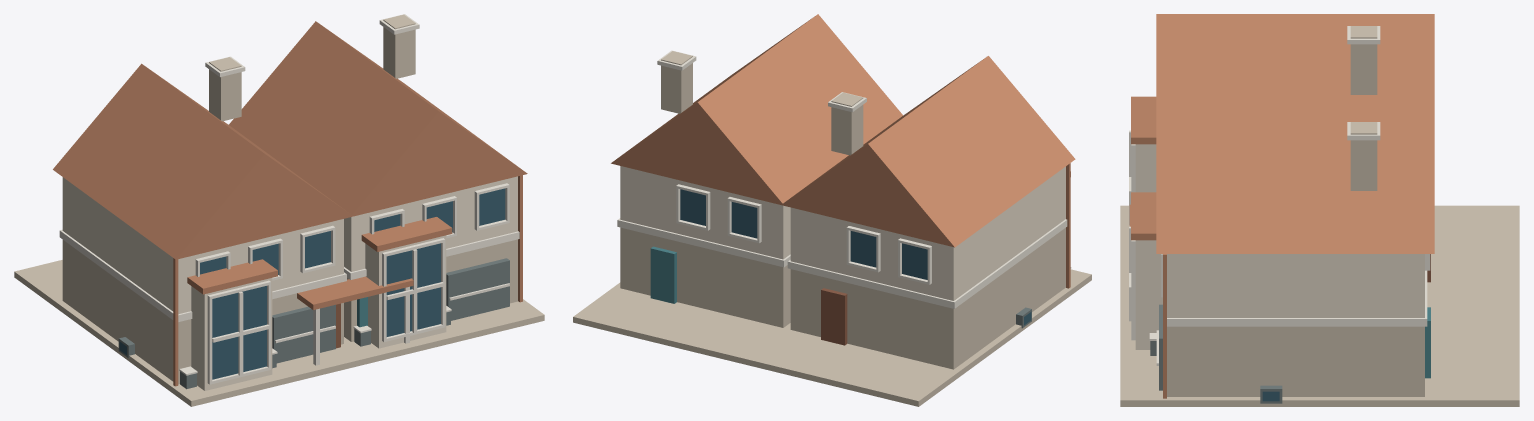
Rendered from townhouse_b.glb.
3 views of the same model, side by side, from view 1: azimuth 30°, elevation 25°; view 2: azimuth 150°, elevation 25°; view 3: azimuth 270°, elevation 25° (orthographic). The views are drawn at different scales.
Parts seen in each view (by area): view 1: Merged_TownRoof, Merged_TownStone, Merged_TownPlaster, Merged_TownTrim, Merged_WindowGlassDark, Merged_TownGarage; view 2: Merged_TownRoof, Merged_TownStone, Merged_TownPlaster, Merged_TownTrim, Merged_WindowGlassDark, Merged_TownDoor, Merged_TownDoorAccent; view 3: Merged_TownRoof, Merged_TownStone, Merged_TownPlaster, Merged_TownTrim, Merged_TownGarage, Merged_TownDoorAccent.
Part boxes in pixels (left/top/right/bottom): Merged_TownRoof: left=53, top=21, right=527, bottom=386; Merged_TownStone: left=14, top=14, right=544, bottom=406; Merged_TownPlaster: left=62, top=176, right=517, bottom=390; Merged_TownTrim: left=59, top=14, right=519, bottom=384; Merged_WindowGlassDark: left=119, top=188, right=505, bottom=379; Merged_TownGarage: left=118, top=258, right=509, bottom=389; Merged_TownRoof: left=611, top=14, right=1075, bottom=288; Merged_TownStone: left=573, top=51, right=1091, bottom=406; Merged_TownPlaster: left=620, top=166, right=1065, bottom=300; Merged_TownTrim: left=617, top=50, right=1071, bottom=308; Merged_WindowGlassDark: left=680, top=189, right=1031, bottom=325; Merged_TownDoor: left=821, top=288, right=847, bottom=345; Merged_TownDoorAccent: left=650, top=246, right=676, bottom=303; Merged_TownRoof: left=1129, top=14, right=1434, bottom=398; Merged_TownStone: left=1120, top=26, right=1519, bottom=406; Merged_TownPlaster: left=1135, top=144, right=1424, bottom=349; Merged_TownTrim: left=1129, top=26, right=1430, bottom=365; Merged_TownGarage: left=1150, top=304, right=1282, bottom=403; Merged_TownDoorAccent: left=1425, top=307, right=1430, bottom=378.
Bounding box in the file's own units: 18.98 × 11.7 × 16.37.
